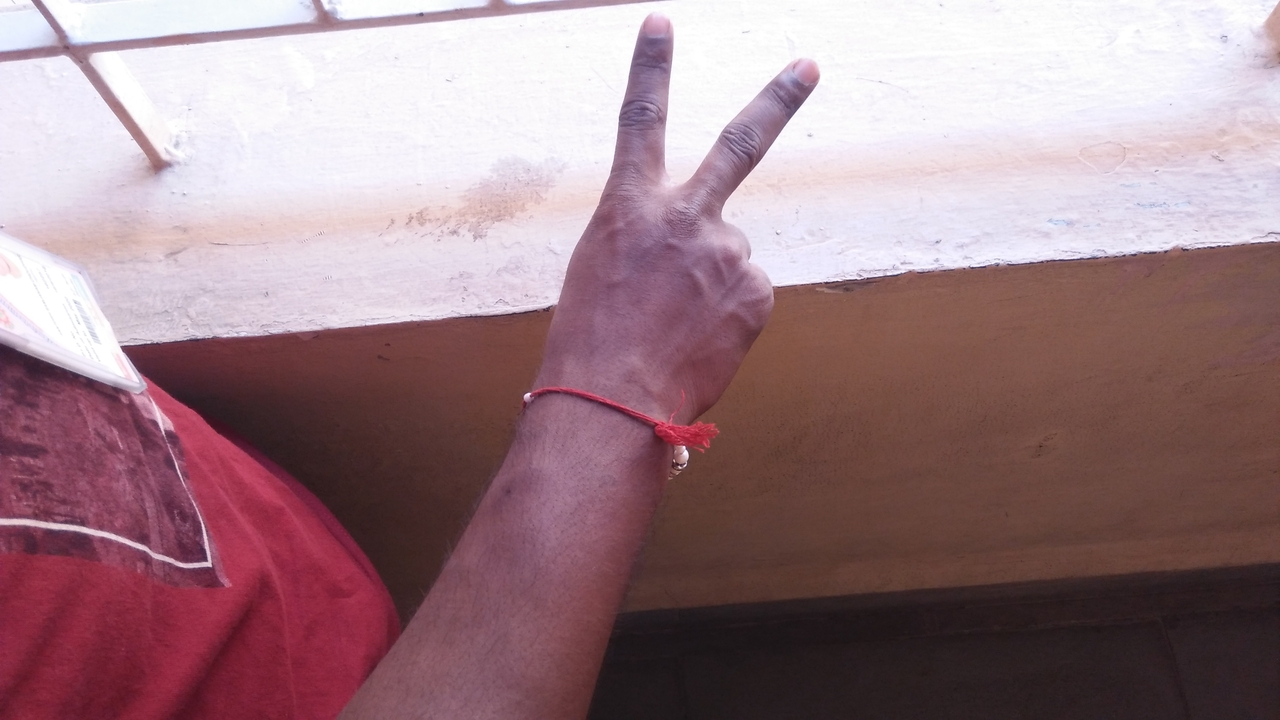fingertip: (774, 48, 826, 96), (634, 0, 678, 52)
